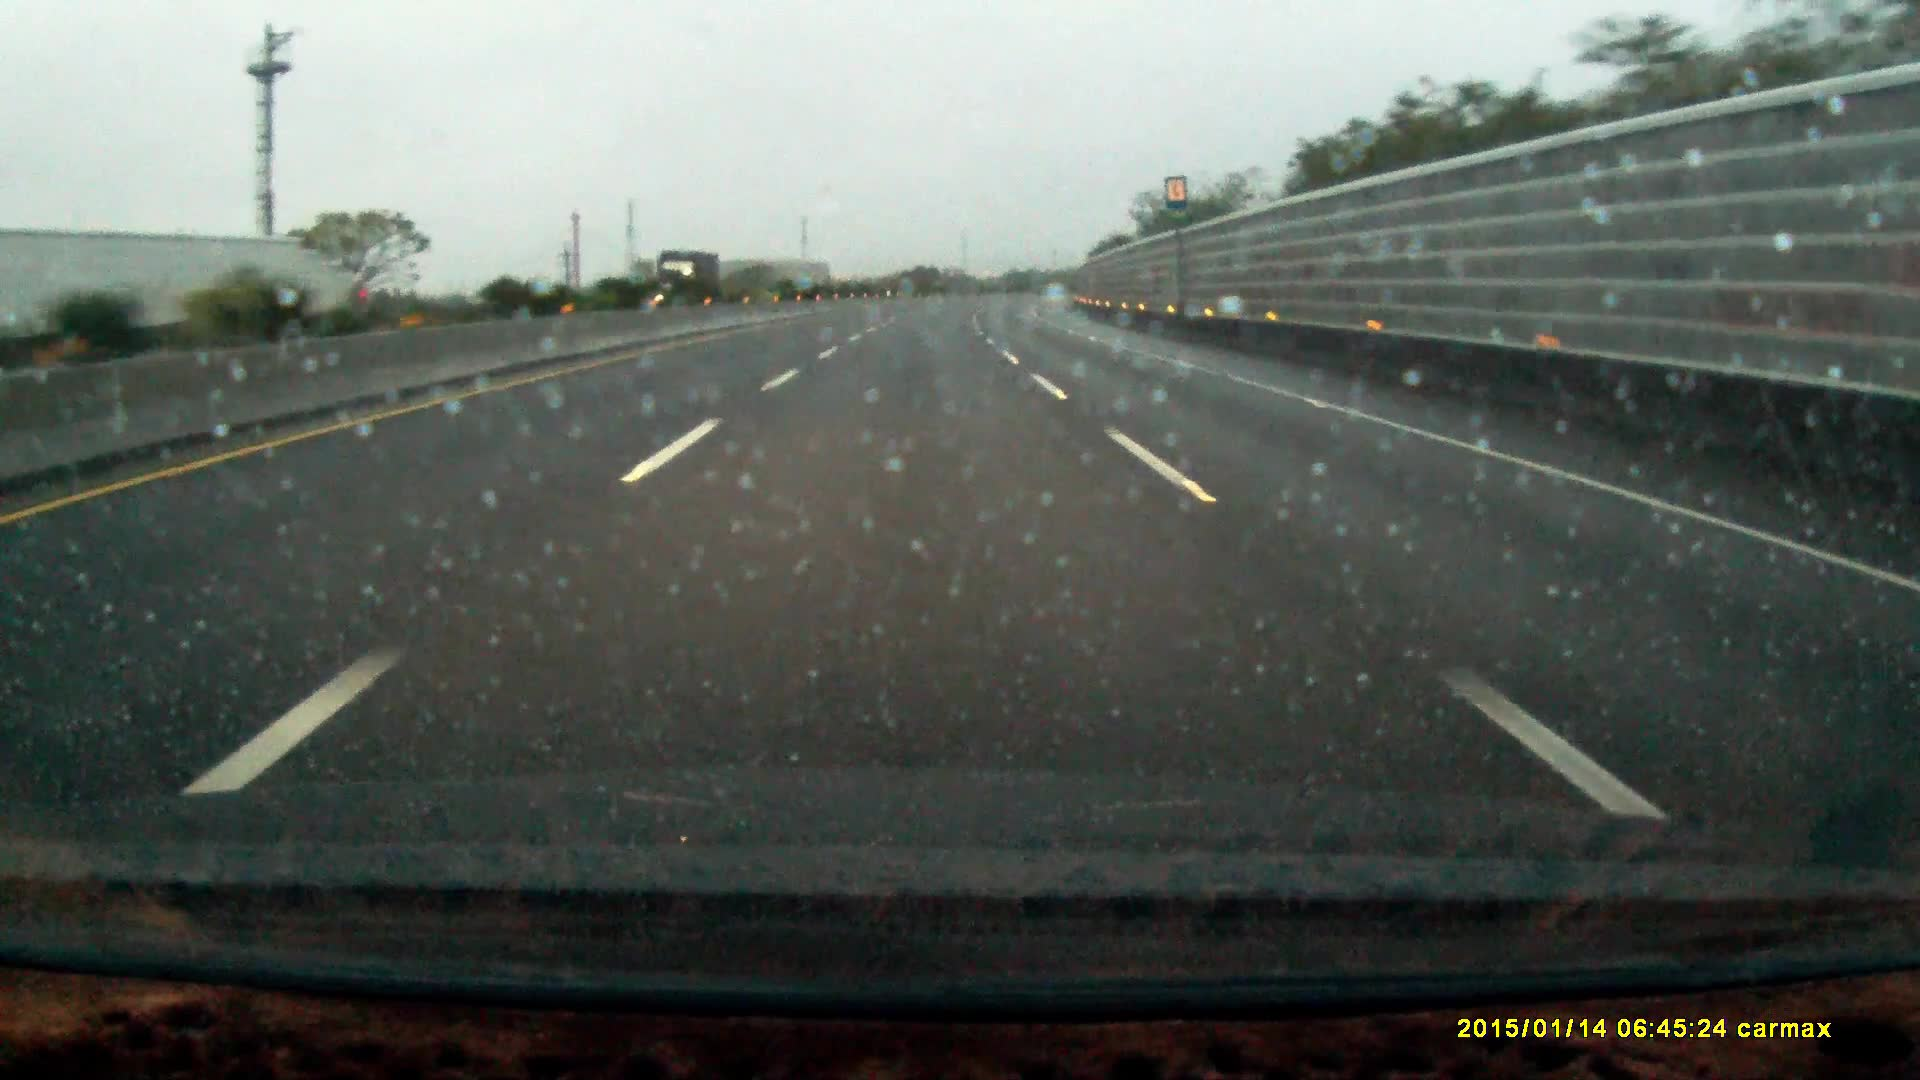vehicle: (658, 251, 723, 306)
